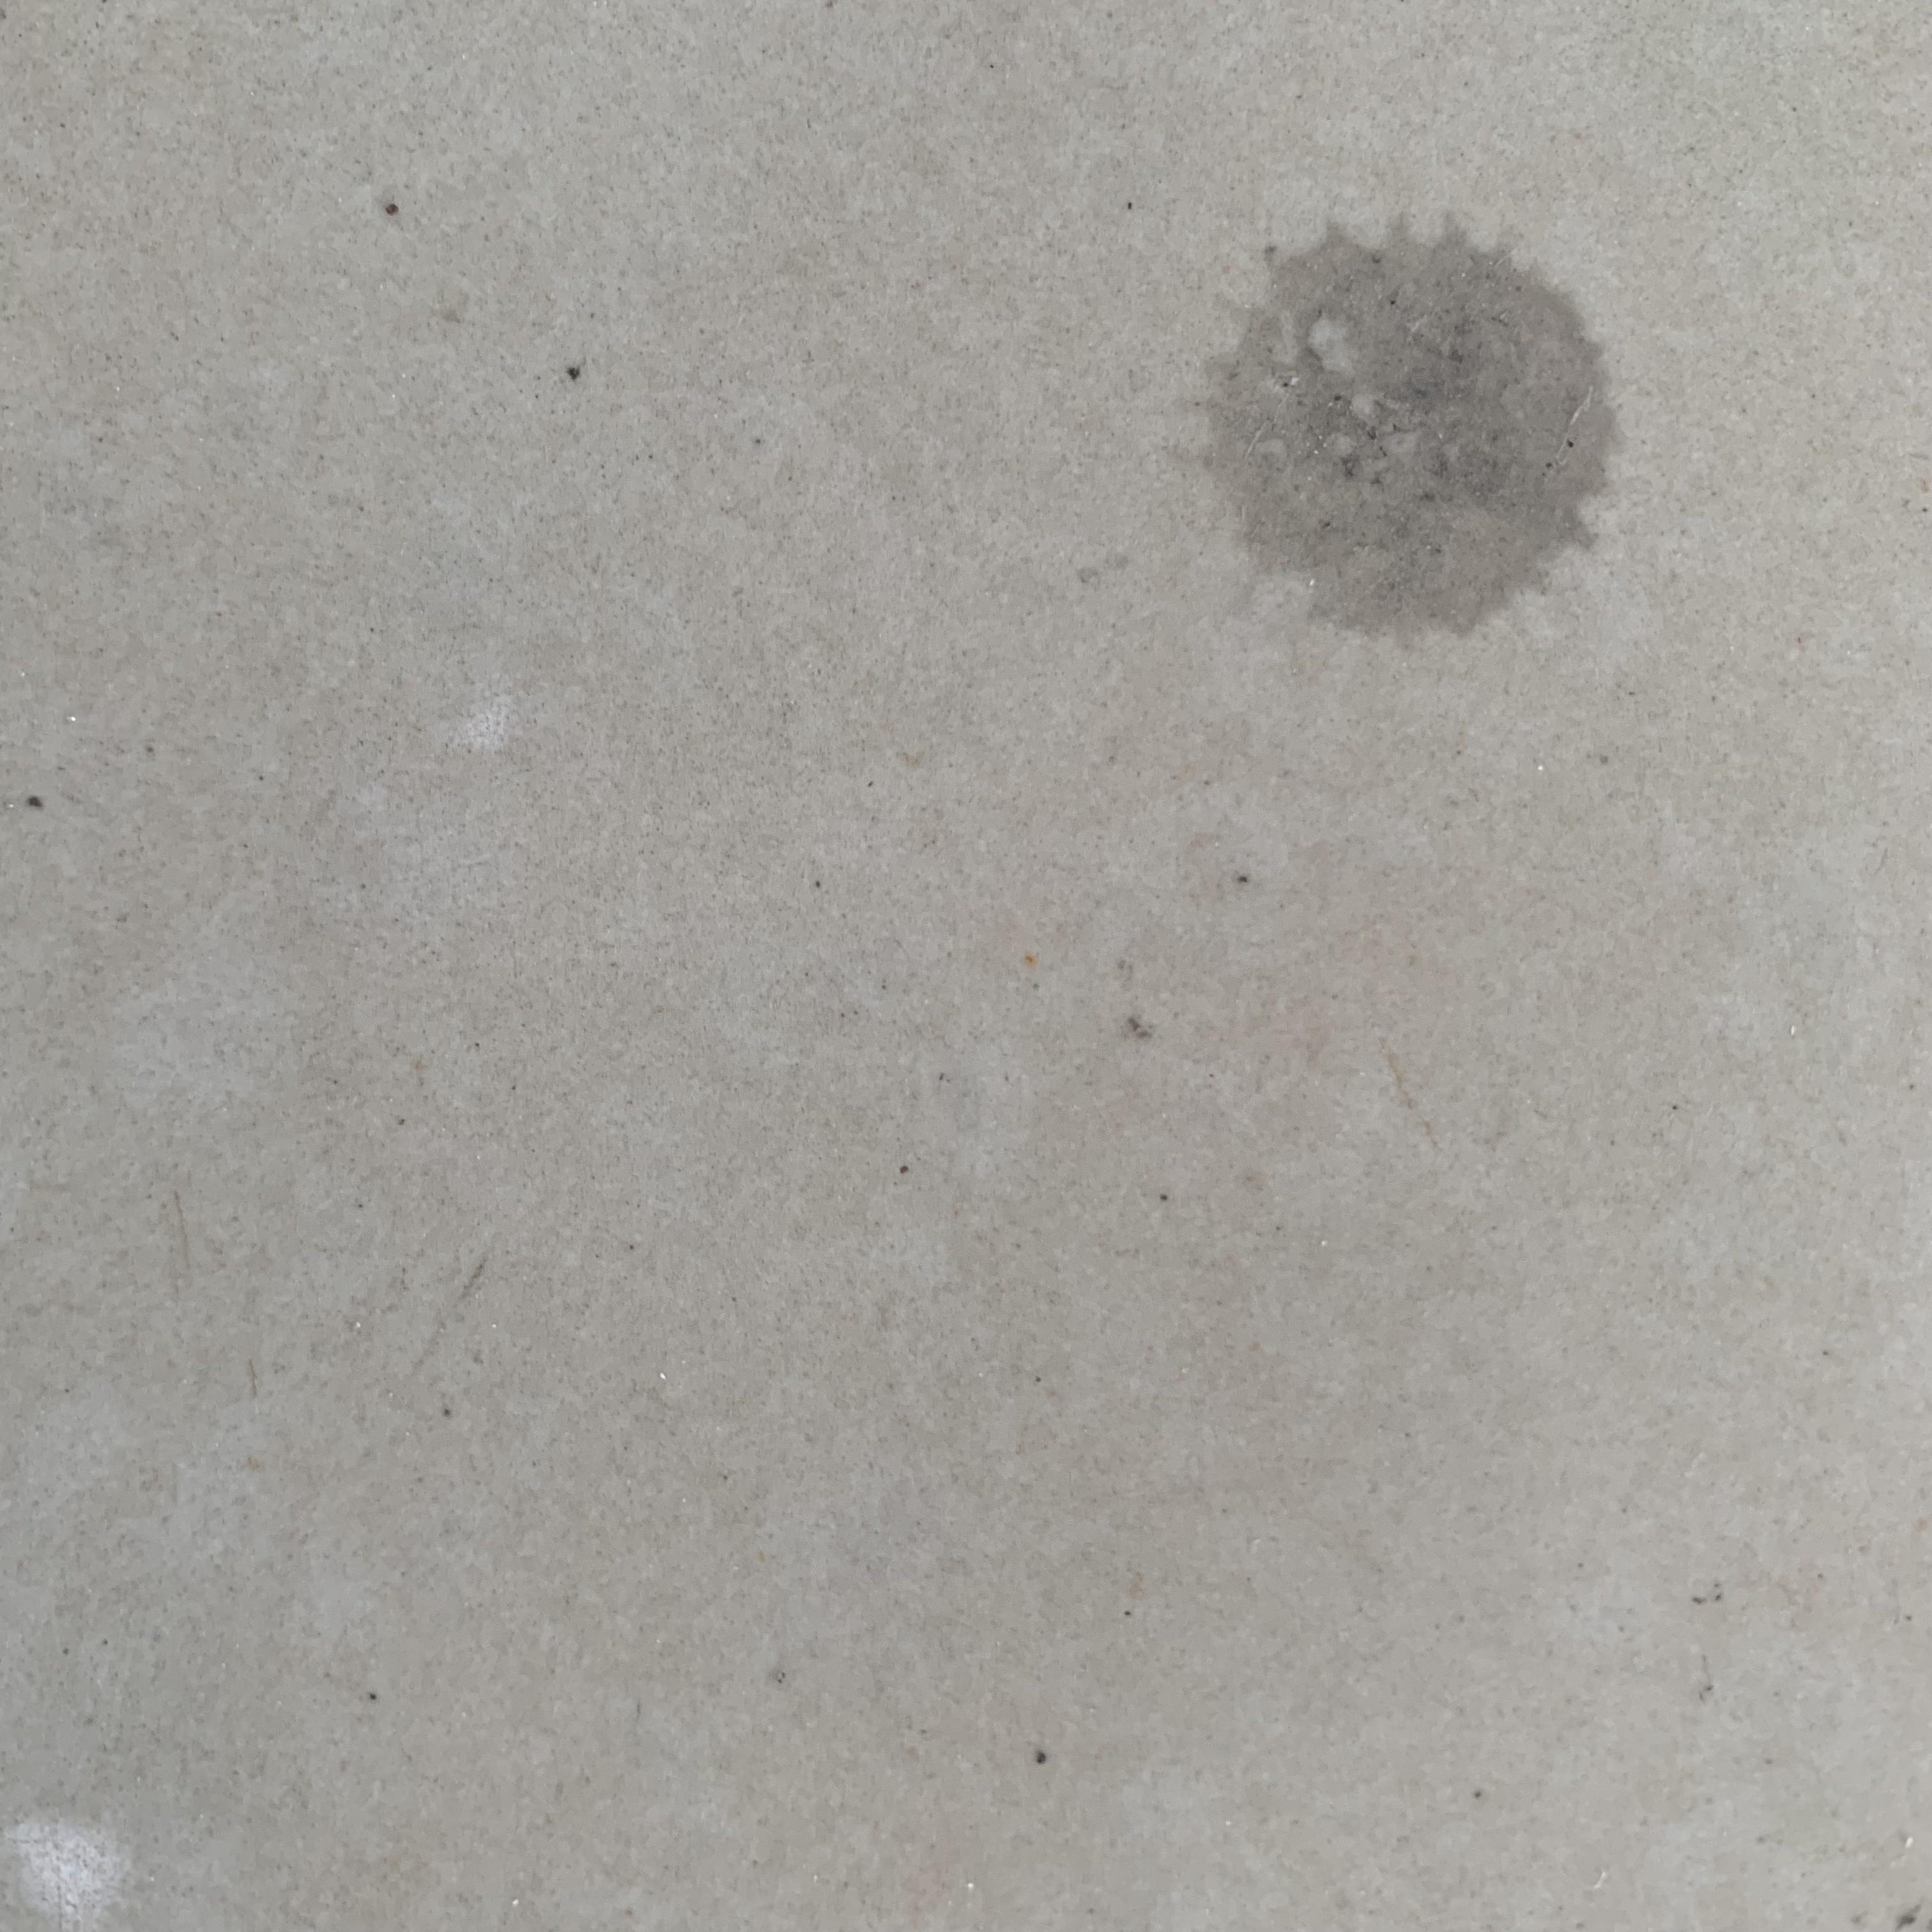grey spot: (1162, 214, 1626, 644)
